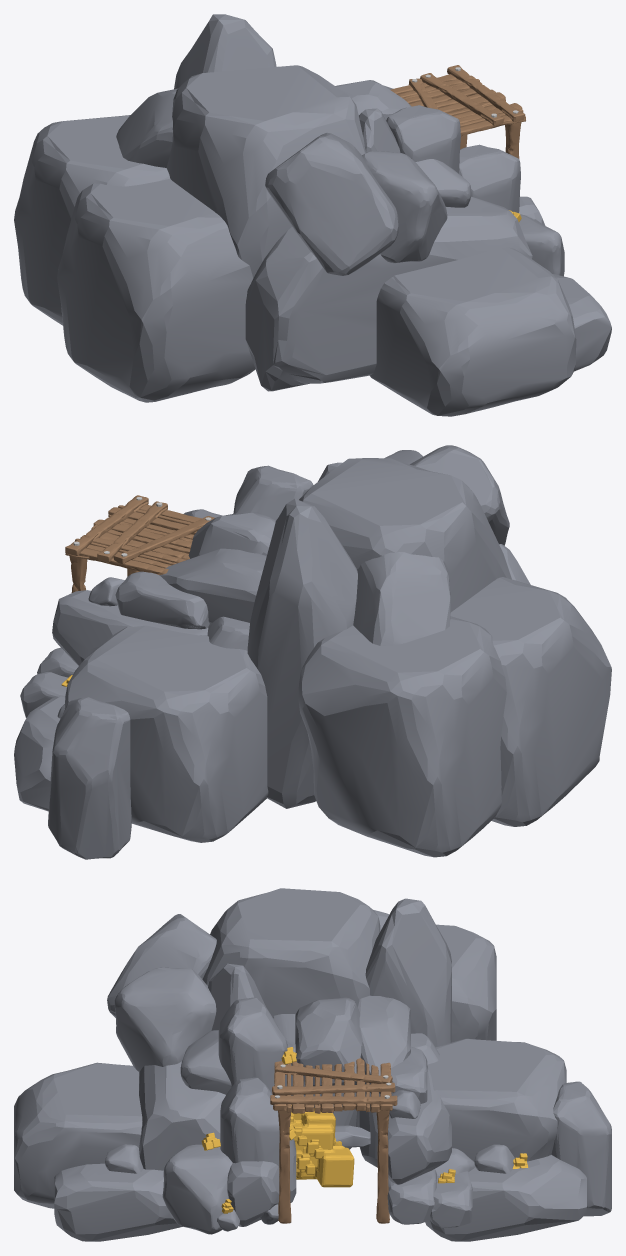
Rendered from Mine.fbx.
3 views of the same model, one above another, from view 1: azimuth 30°, elevation 25°; view 2: azimuth 150°, elevation 25°; view 3: azimuth 270°, elevation 25° (orthographic). The views are drawn at different scales.
Parts seen in each view (by area): view 1: Rock_space.038, Rock_space.027, Rock_space.014, Rock_space.019, Rock_space.036, Rock_space.021, Rock_space.020, Rock_space.018, Rock_space.017, Rock_space.037, Rock_space, Rock_space.028 (+6 smaller); view 2: Rock_space.036, Rock_space.030, Rock_space.038, Rock_space.018, Rock_space.014, Rock_space.033, Rock_space.037, Rock_space.015, Rock_space.009, Rock_space.007, Rock_space.031, Rock_space.021 (+10 smaller); view 3: Rock_space.014, Rock_space.030, Rock_space.027, Rock_space.018, Rock_space.031, Rock_space.020, Rock_space.028, Rock_space.019, Rock_space.033, Rock_space.036, Rock_space.004, Rock_space.017 (+24 smaller).
Boxes of the visible parts, x1=… form: Rock_space.038: x1=57, y1=179, x2=255, y2=402; Rock_space.027: x1=369, y1=247, x2=576, y2=416; Rock_space.014: x1=166, y1=65, x2=365, y2=278; Rock_space.019: x1=245, y1=196, x2=532, y2=391; Rock_space.036: x1=14, y1=115, x2=170, y2=325; Rock_space.021: x1=265, y1=132, x2=398, y2=275; Rock_space.020: x1=362, y1=151, x2=447, y2=263; Rock_space.018: x1=174, y1=14, x2=276, y2=89; Rock_space.017: x1=386, y1=105, x2=460, y2=173; Rock_space.037: x1=116, y1=88, x2=177, y2=167; Rock_space: x1=459, y1=144, x2=520, y2=212; Rock_space.028: x1=552, y1=274, x2=611, y2=371; Rock_space.036: x1=298, y1=616, x2=506, y2=857; Rock_space.030: x1=64, y1=625, x2=268, y2=842; Rock_space.038: x1=450, y1=577, x2=611, y2=826; Rock_space.018: x1=247, y1=498, x2=357, y2=808; Rock_space.014: x1=299, y1=458, x2=511, y2=611; Rock_space.033: x1=48, y1=697, x2=131, y2=859; Rock_space.037: x1=353, y1=552, x2=450, y2=645; Rock_space.015: x1=159, y1=548, x2=266, y2=623; Rock_space.009: x1=52, y1=590, x2=208, y2=665; Rock_space.007: x1=115, y1=571, x2=209, y2=629; Rock_space.031: x1=14, y1=696, x2=65, y2=811; Rock_space.021: x1=410, y1=445, x2=509, y2=545; Rock_space.014: x1=202, y1=888, x2=380, y2=1149; Rock_space.030: x1=427, y1=1038, x2=566, y2=1161; Rock_space.027: x1=14, y1=1062, x2=142, y2=1208; Rock_space.018: x1=355, y1=898, x2=451, y2=1167; Rock_space.031: x1=425, y1=1155, x2=586, y2=1241; Rock_space.020: x1=114, y1=967, x2=216, y2=1071; Rock_space.028: x1=54, y1=1163, x2=182, y2=1241; Rock_space.019: x1=139, y1=1061, x2=225, y2=1170; Rock_space.033: x1=551, y1=1081, x2=611, y2=1216; Rock_space.036: x1=436, y1=924, x2=496, y2=1042; Rock_space.004: x1=162, y1=1144, x2=232, y2=1234; Rock_space.017: x1=218, y1=997, x2=287, y2=1094.
Size of the model in its own units: 1351 by 855 by 1734.
